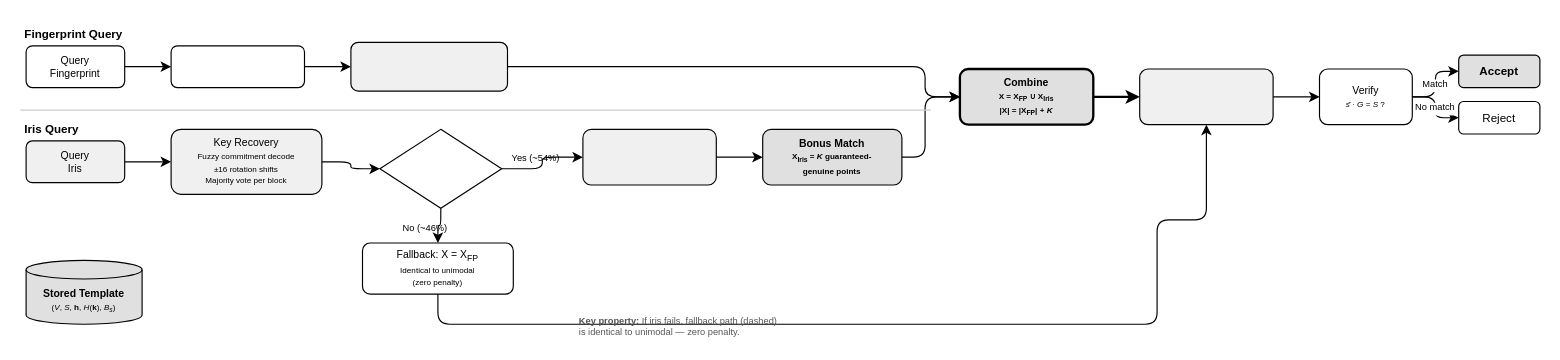
Image size: 1560x360. Some labels were removed from this diagram. Here are the shapes that lost their labels. From the top down, the box of each, then its label:
(170, 45, 304, 88): Quantize → EC Map Same as enrollment
(350, 41, 507, 91): FP Match X FP = matching vault points
(1139, 68, 1273, 125): Lagrange Interpolation Try ( k +1)-subsets of X
(379, 128, 502, 208): Iris key recovered?
(582, 128, 716, 185): Derive Virtual Coordinates v j = H(κ, j ) mod p
